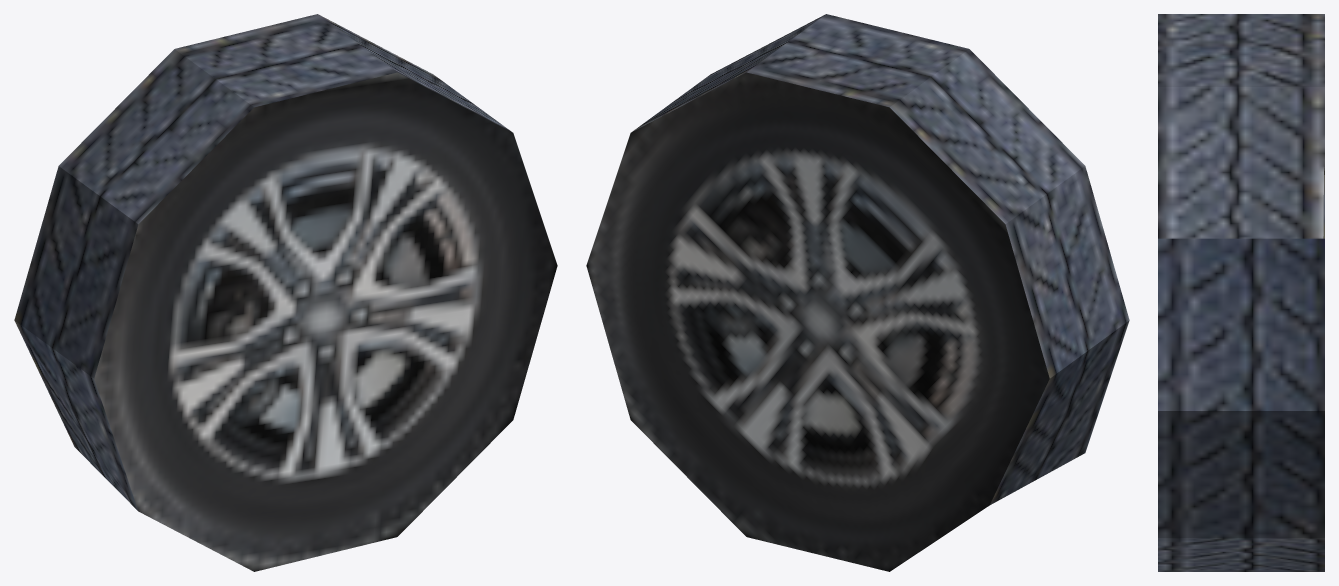
Rendered from Roue4.fbx.
3 renders of one model, left to right at view 1: azimuth 30°, elevation 25°; view 2: azimuth 150°, elevation 25°; view 3: azimuth 270°, elevation 25°, orthographic. The views are drawn at different scales.
Parts seen in each view (by area): view 1: polySurface3; view 2: polySurface3; view 3: polySurface3.
Boxes of the visible parts, left/top/right/bottom form: polySurface3: left=14, top=14, right=557, bottom=571; polySurface3: left=586, top=14, right=1129, bottom=571; polySurface3: left=1158, top=14, right=1324, bottom=571.
Bounding box in the file's own units: 0.3628 × 0.3475 × 0.1083.
